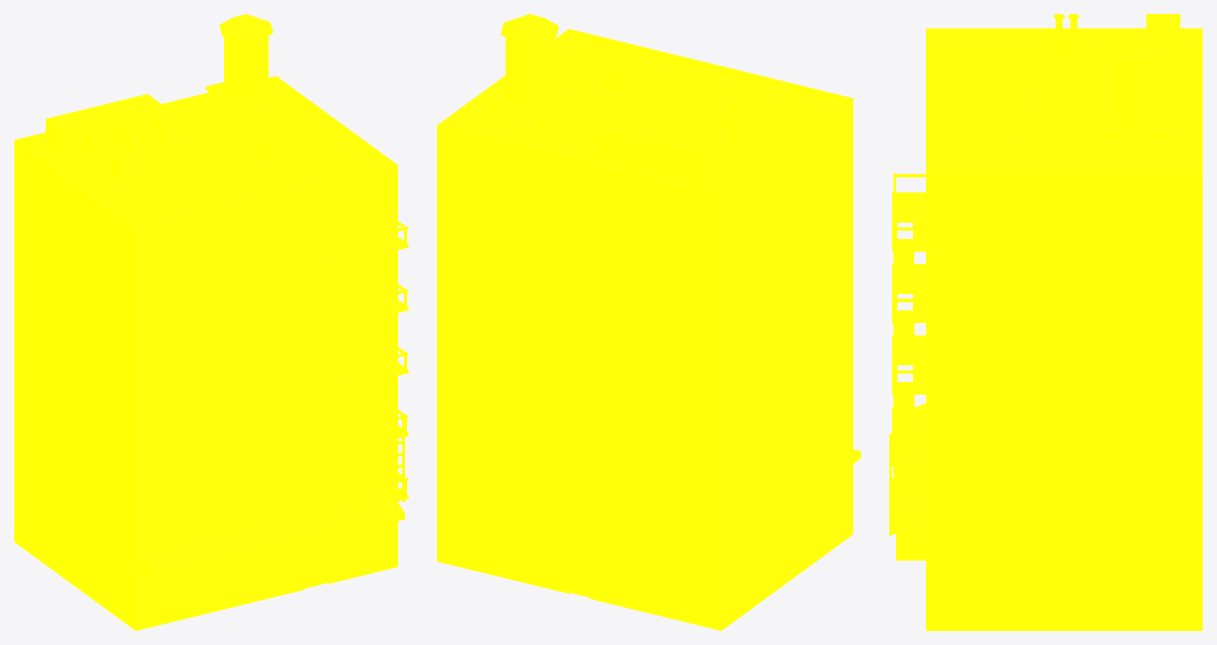
File: building-block-5floor-front.glb
3 views of the same model, side by side, from view 1: azimuth 30°, elevation 25°; view 2: azimuth 150°, elevation 25°; view 3: azimuth 270°, elevation 25° (orthographic). The views are drawn at different scales.
Parts seen in each view (by area): view 1: building-block-5floor-front; view 2: building-block-5floor-front; view 3: building-block-5floor-front.
Boxes of the visible parts, x1=… form: building-block-5floor-front: x1=14, y1=14, x2=408, y2=630; building-block-5floor-front: x1=437, y1=14, x2=860, y2=630; building-block-5floor-front: x1=889, y1=14, x2=1202, y2=630.
Bounding box in the file's own units: 13.1 × 23.81 × 11.92.
1 material, 1 textured.
